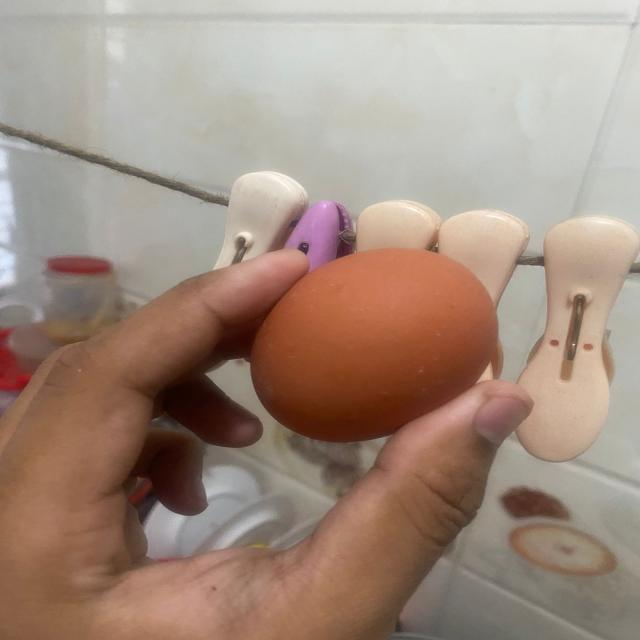Egg: (248, 246, 504, 446)
